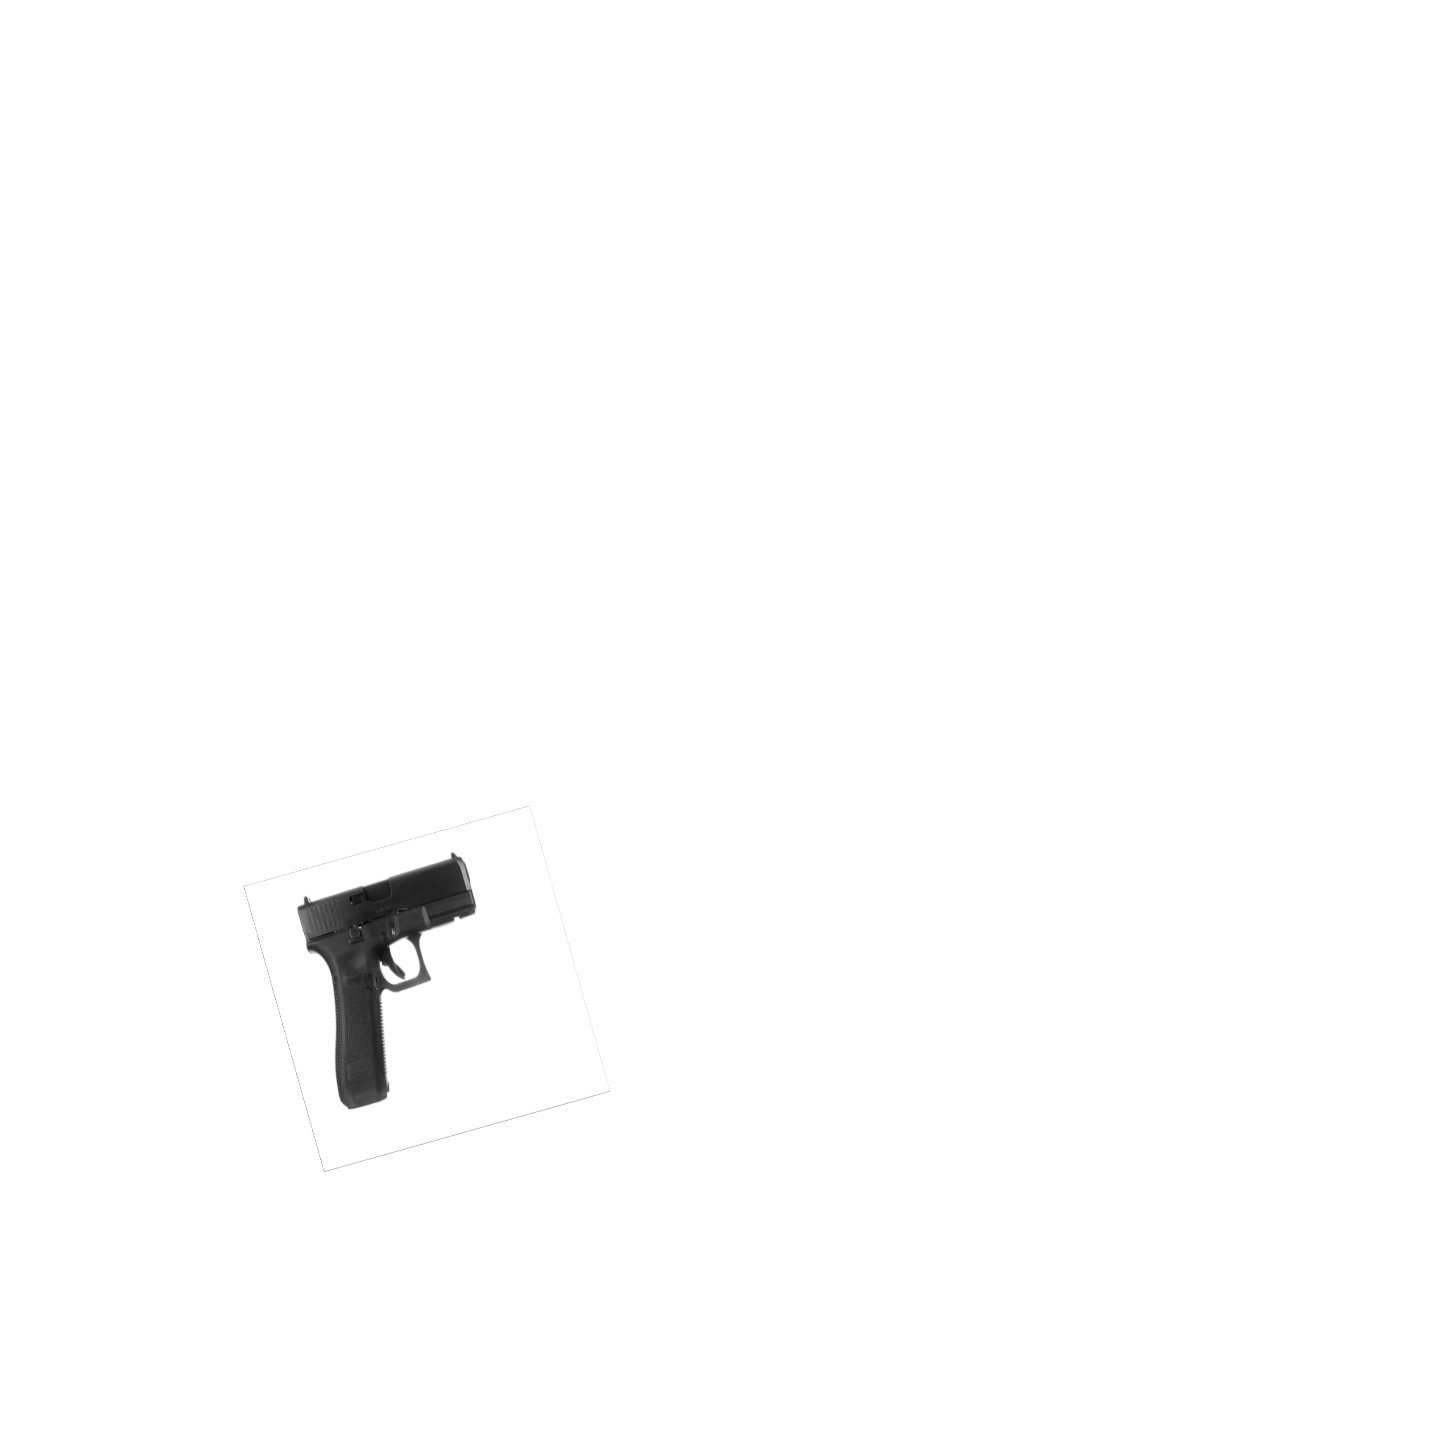gun: (291, 849, 482, 1111)
